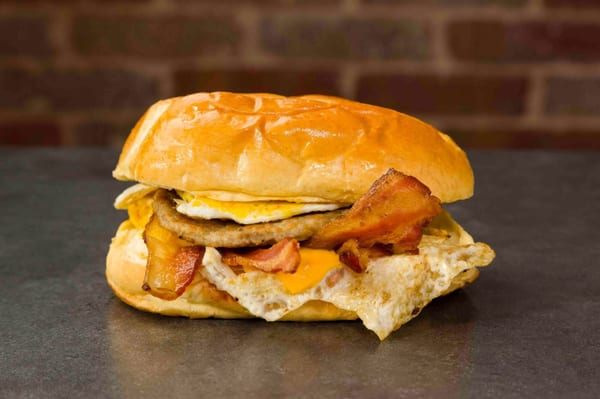soup: (104, 91, 492, 337)
